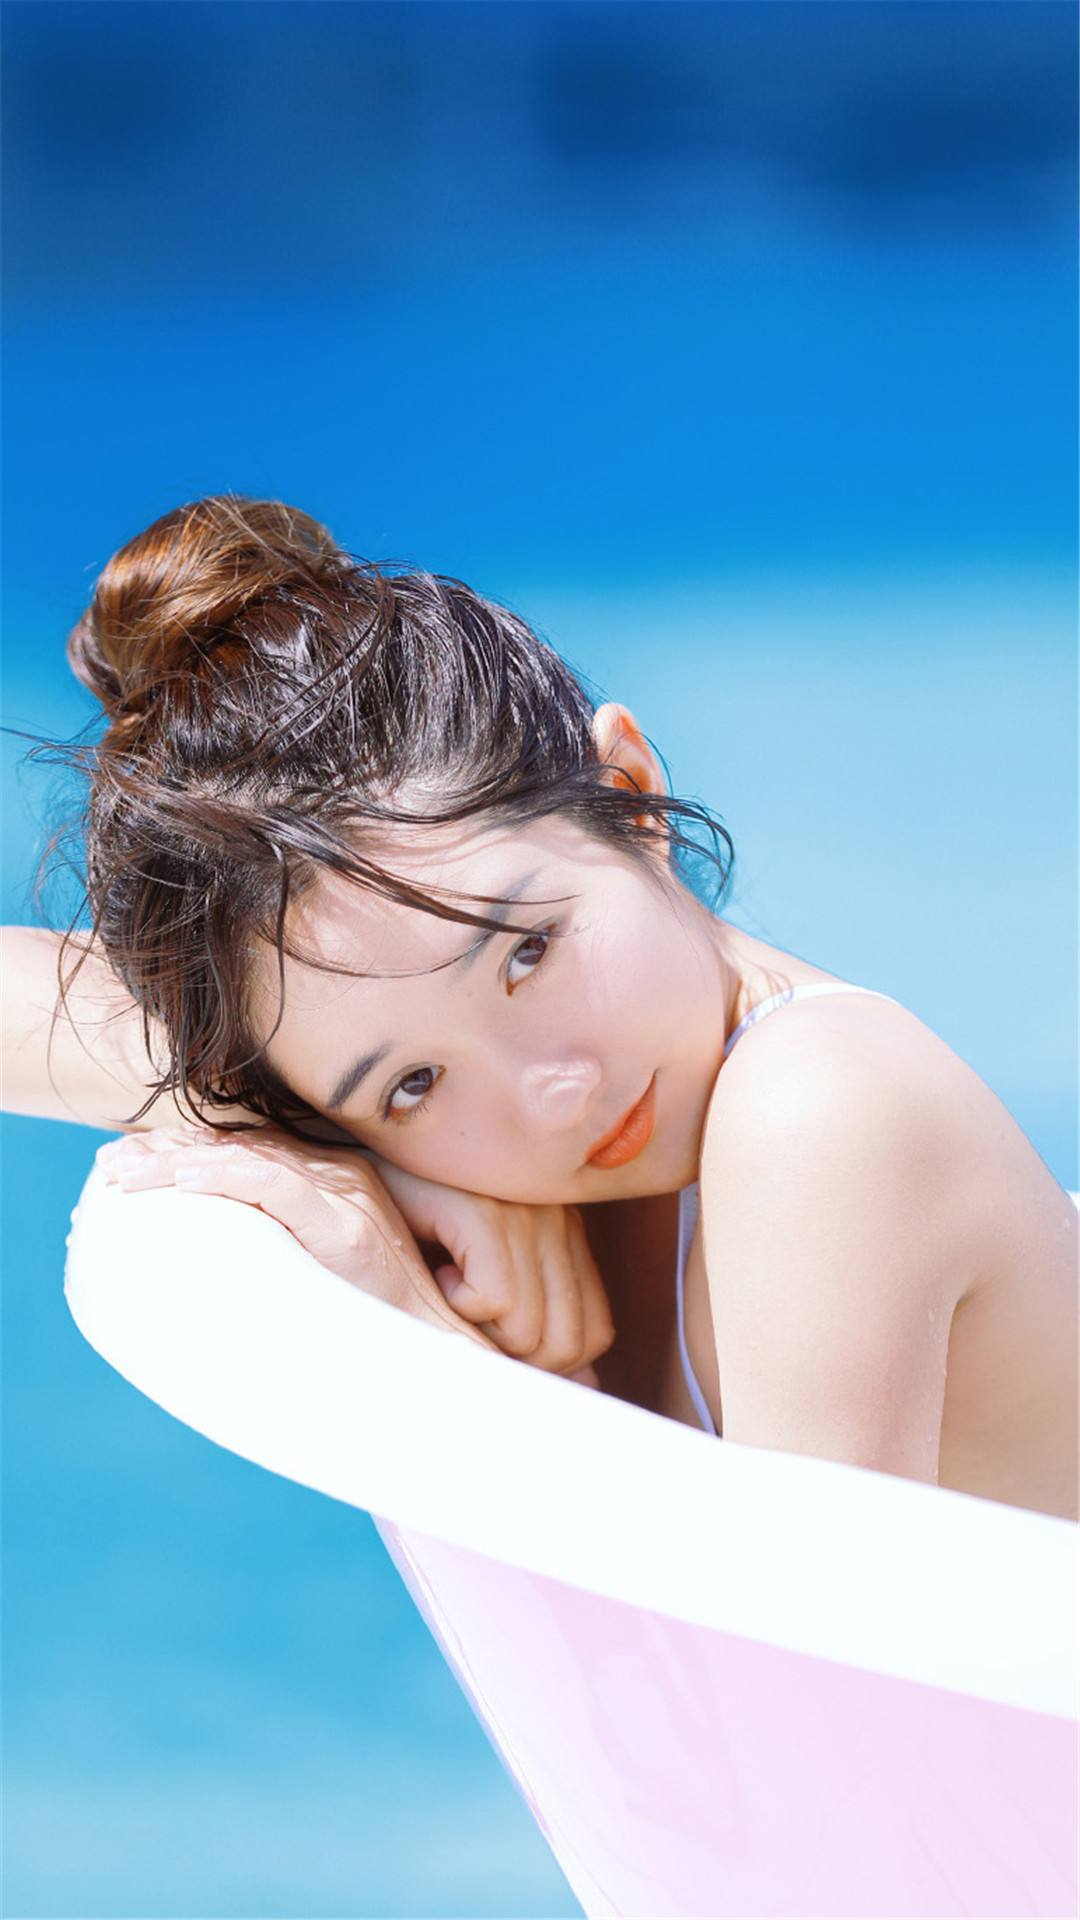person: (63, 465, 1080, 1496)
